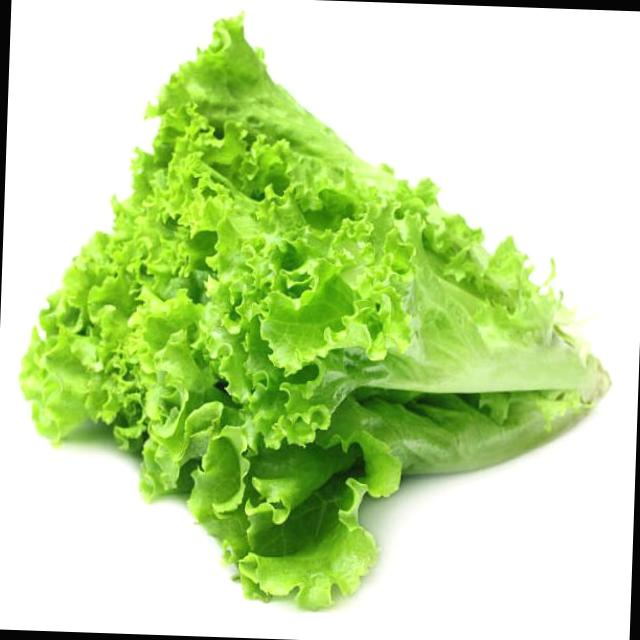Lettuce-Ready-to-Harvest: (22, 19, 608, 608)
